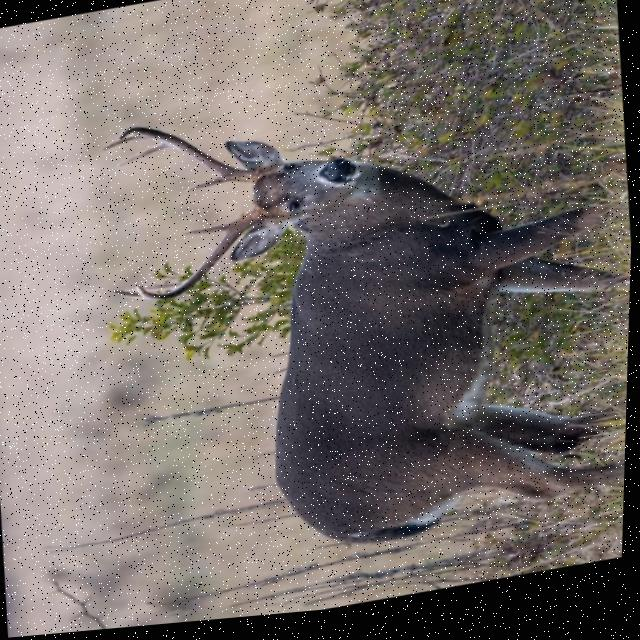L-F: (136, 212, 266, 302)
L-G1: (183, 225, 234, 238)
R-F: (117, 128, 261, 185)
R-G1: (188, 178, 232, 193)
R-G2: (116, 144, 172, 167)
